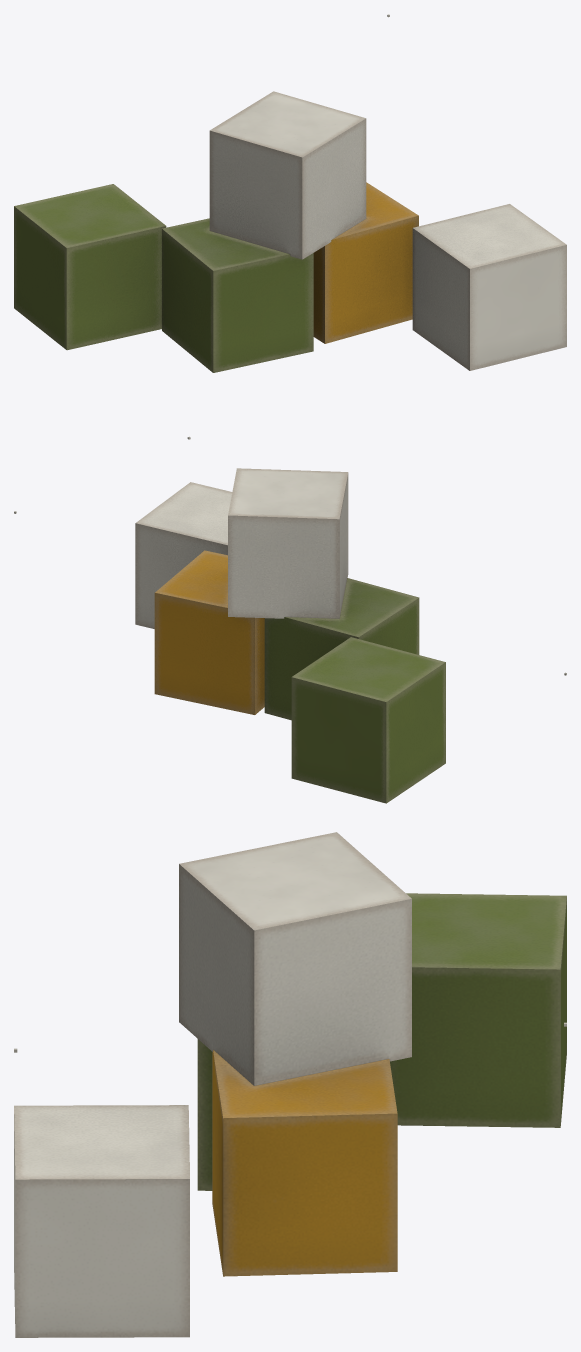
The model's file is H_ToyBlocks.fbx.
The picture shows the model from 3 angles, top to bottom: view 1: azimuth 30°, elevation 25°; view 2: azimuth 150°, elevation 25°; view 3: azimuth 270°, elevation 25°; orthographic projection. The views are drawn at different scales.
Visible parts, largest first — view 1: H_ToyBlocks; view 2: H_ToyBlocks; view 3: H_ToyBlocks.
Part boxes in pixels (x1,y1,x2,y2): H_ToyBlocks: [14, 14, 566, 439]; H_ToyBlocks: [14, 468, 566, 803]; H_ToyBlocks: [14, 832, 566, 1337].
Size of the model in its own units: 217 by 111 by 177.
Materials: 1 (1 with a texture image).
